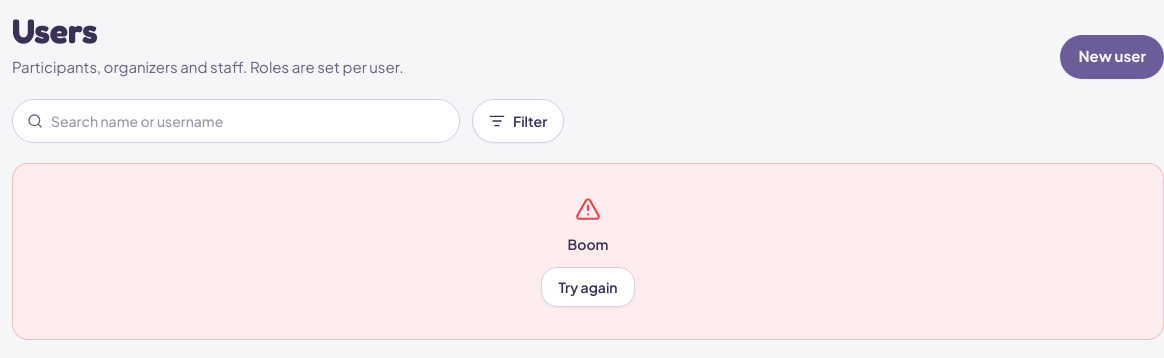
Test: UsersPage › shows an error with a retry button when loading fails
Check: the text "Boom" is shown, box [568,234,608,254]
What coordinates should you click on to do the following:
click the button "Try again"
I would click on:
 (588, 286)
Its box is [542,266,635,306].
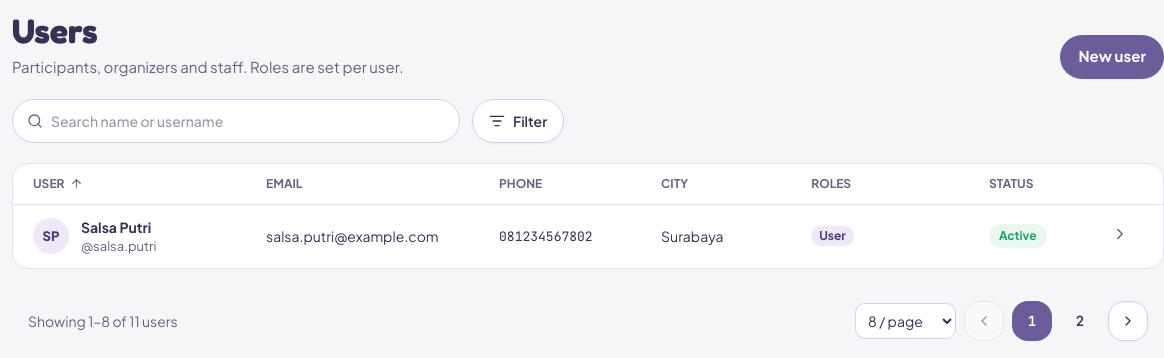
Check: the link "Salsa Putri" is shown, box [81,216,156,236]
